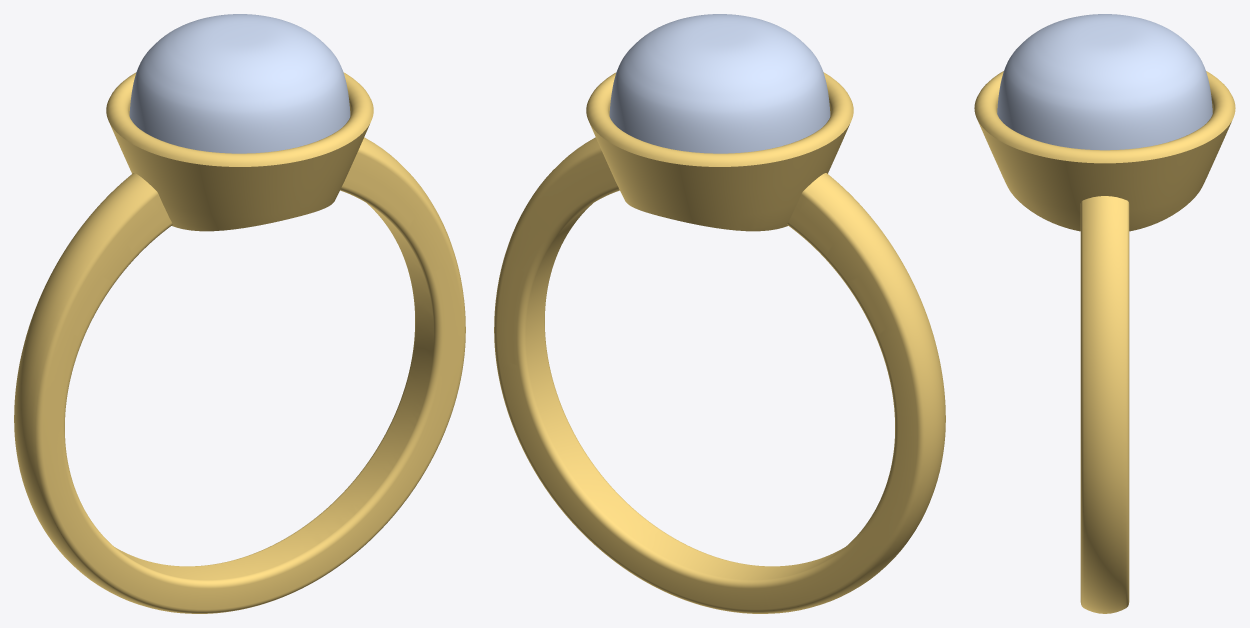
Rendered from HannahMoonstoneYG_blender.glb.
3 renders of one model, left to right at view 1: azimuth 30°, elevation 25°; view 2: azimuth 150°, elevation 25°; view 3: azimuth 270°, elevation 25°, orthographic. The views are drawn at different scales.
Parts seen in each view (by area): view 1: Wendy YG for 3d model, Wendy moonstone for 3d model; view 2: Wendy YG for 3d model, Wendy moonstone for 3d model; view 3: Wendy YG for 3d model, Wendy moonstone for 3d model.
Part boxes in pixels (bbox=[...]): Wendy YG for 3d model: bbox=[14, 72, 465, 613]; Wendy moonstone for 3d model: bbox=[129, 14, 350, 153]; Wendy YG for 3d model: bbox=[494, 72, 945, 613]; Wendy moonstone for 3d model: bbox=[609, 14, 830, 153]; Wendy YG for 3d model: bbox=[974, 71, 1235, 613]; Wendy moonstone for 3d model: bbox=[997, 14, 1212, 150].
Bounding box in the file's own units: 22.57 × 27.99 × 11.88.
